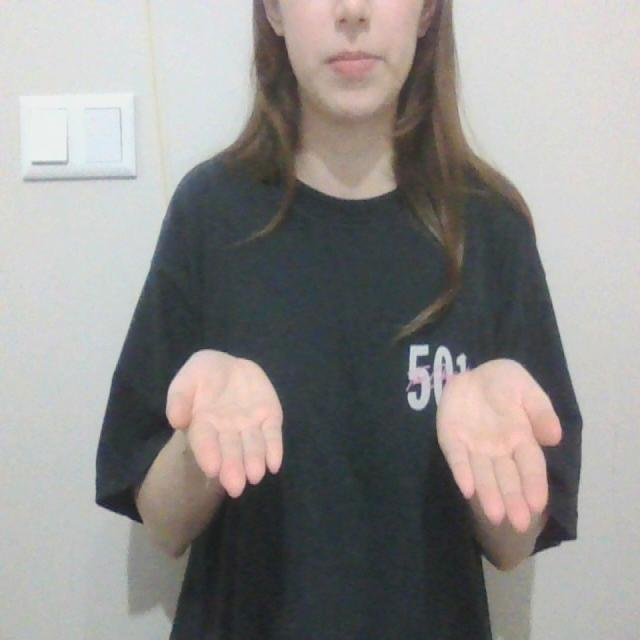Evet: (162, 343, 570, 537)
